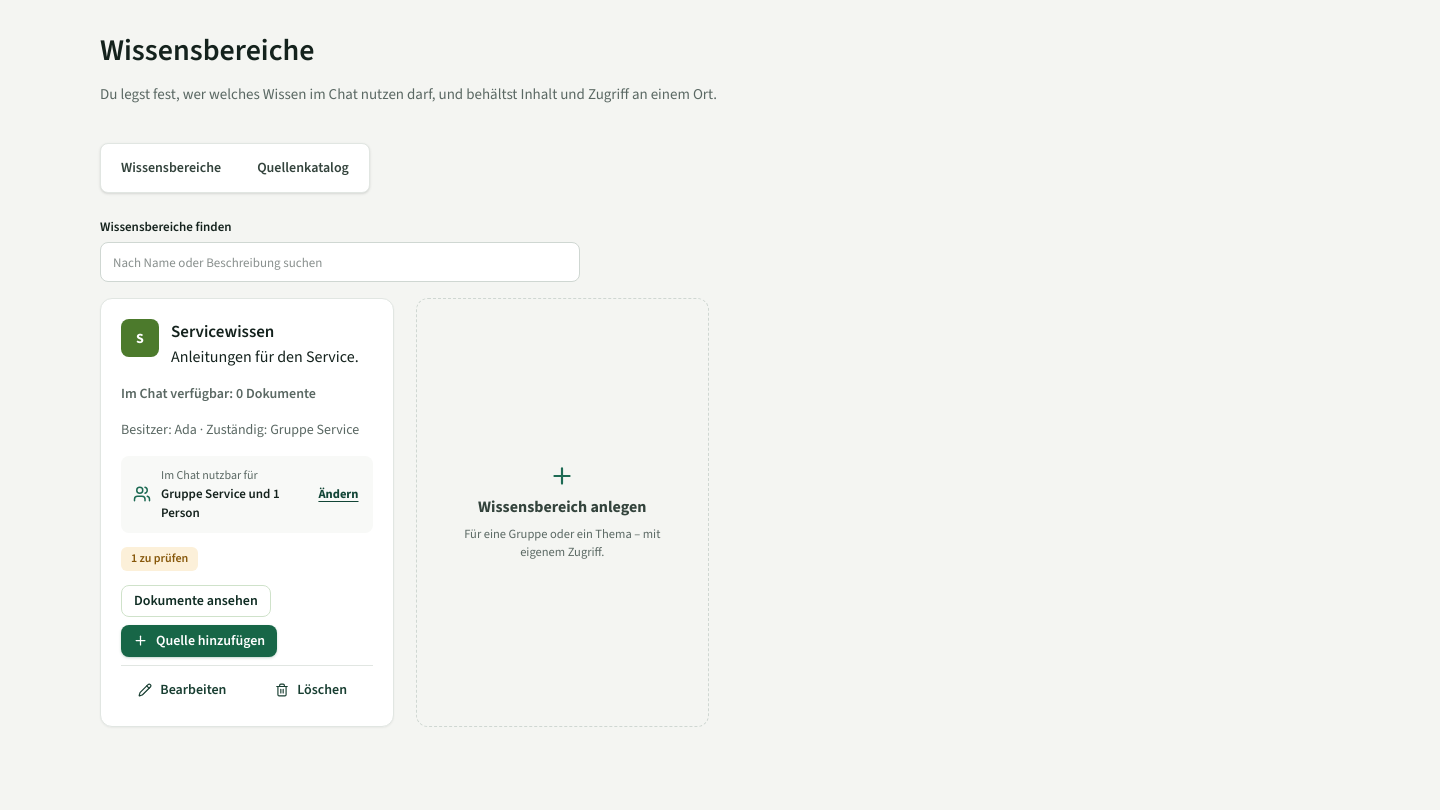
Test case: requires a confirmation before deleting an empty knowledge space
The image size is (1440, 810).
Click the button with aria-label "Servicewissen löschen" at (311, 690), box x1=250 y1=674 x2=373 y2=706
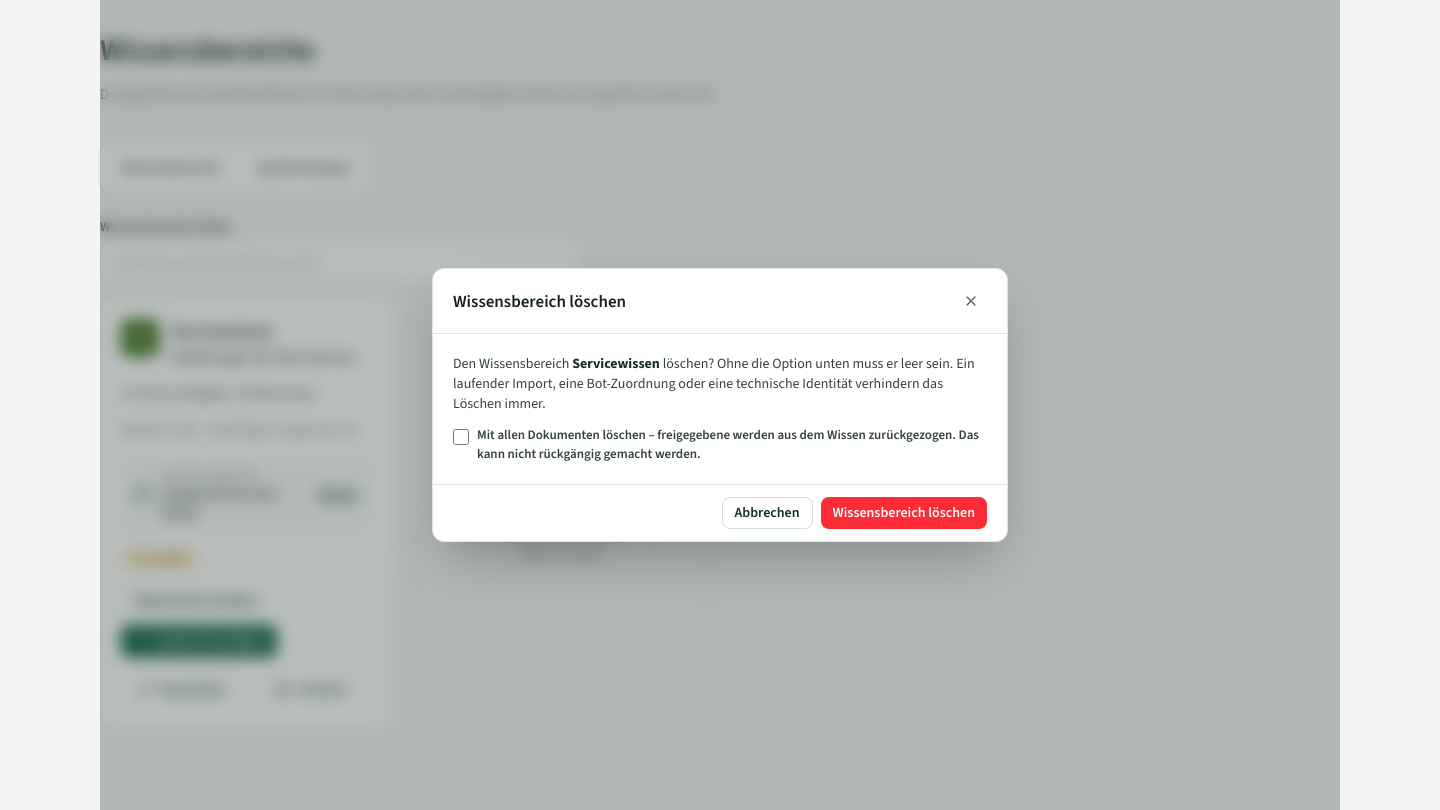
Now the text "Ohne die Option unten muss er leer sein" is shown, box x1=453 y1=354 x2=975 y2=413
Click the button "Wissensbereich löschen" at (904, 513), box x1=820 y1=497 x2=987 y2=529
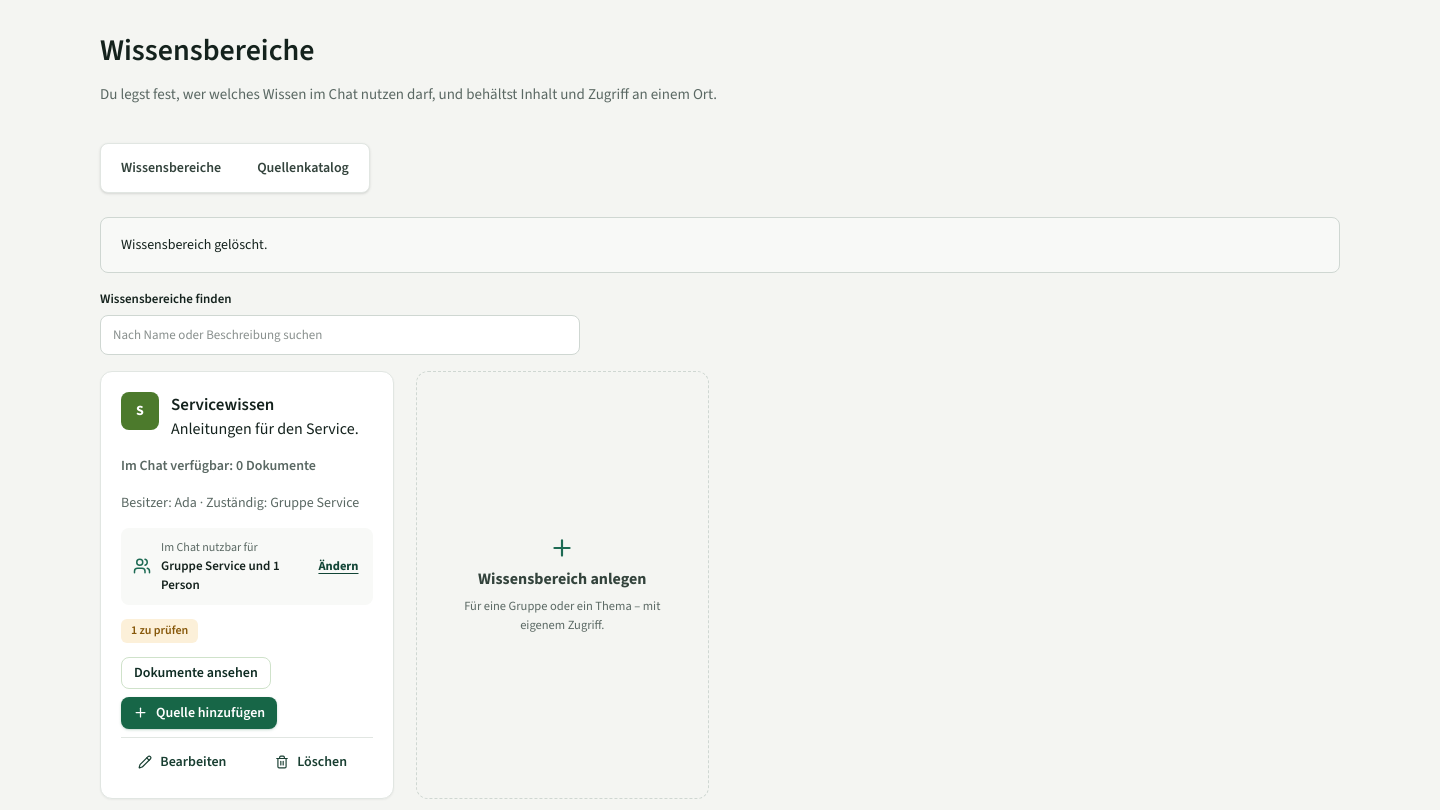
Now the text "Wissensbereich gelöscht." is shown, box x1=121 y1=234 x2=267 y2=256
